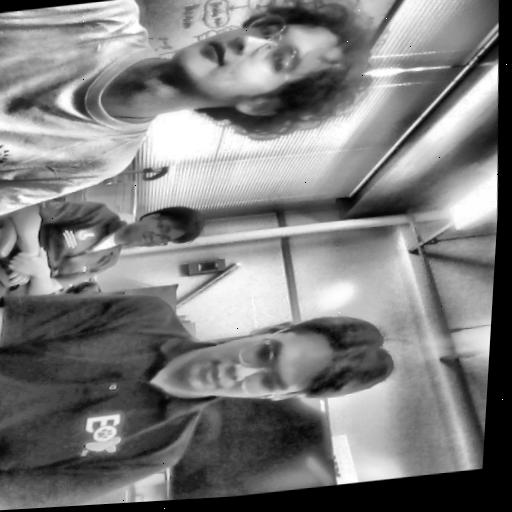Daifuku: (154, 0, 380, 151)
Not Daifuku: (182, 307, 397, 416), (122, 203, 208, 252)
